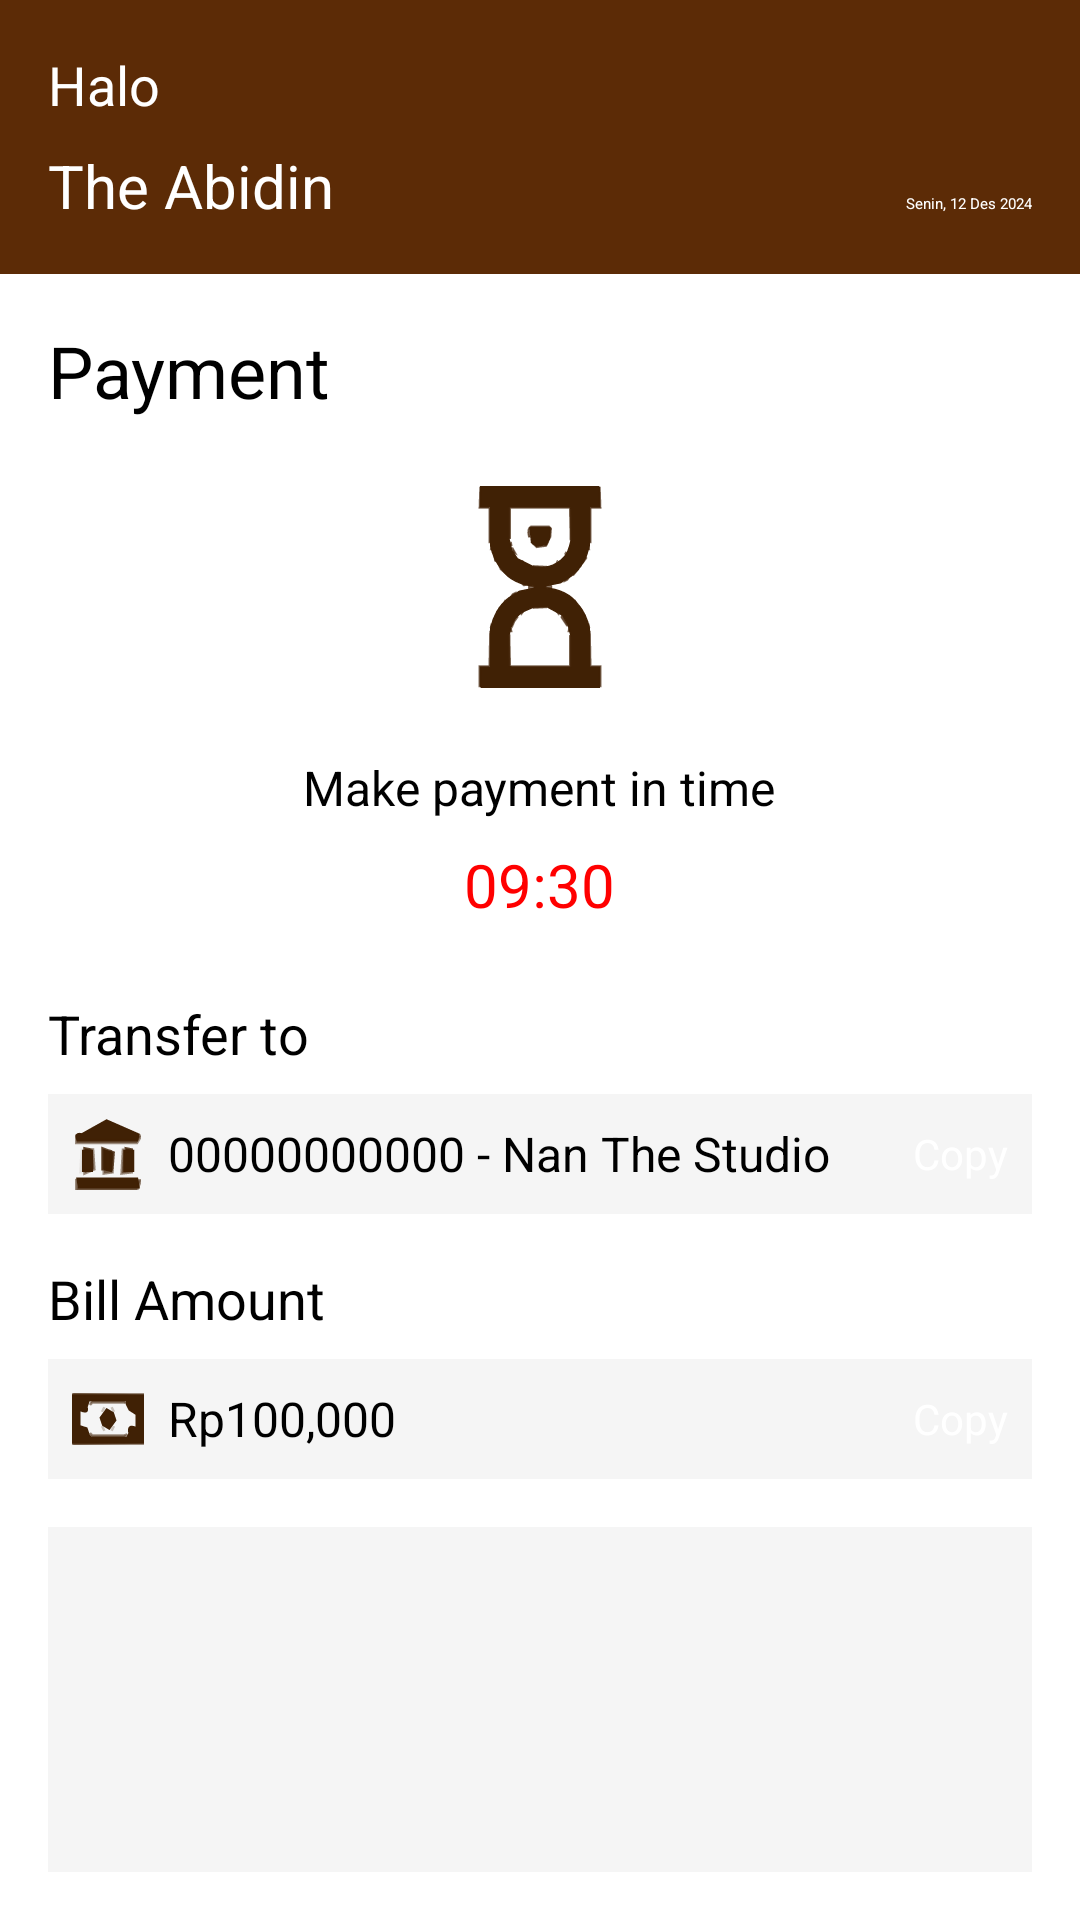

Screen size 1080px x 1920px. Icon name, then its box in pixels as {"left": x1, "top": y1, "right": x2, "bottom": y2}:
Bank Icon: {"left": 75, "top": 1119, "right": 141, "bottom": 1190}
Hourglass Icon: {"left": 478, "top": 486, "right": 602, "bottom": 688}
Money Icon: {"left": 72, "top": 1393, "right": 144, "bottom": 1445}
